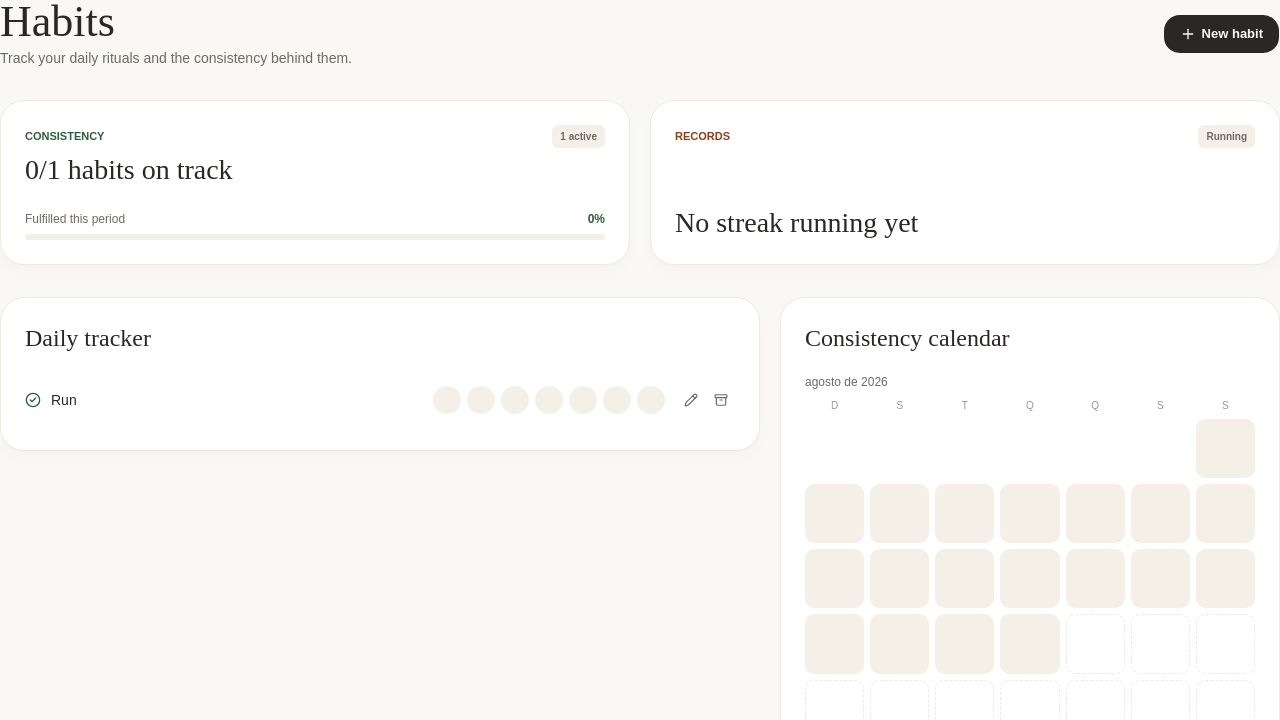
HabitsPage › opens the form on the habit whose row was clicked
Click the button named "Edit Run" at {"x": 691, "y": 400}, box [677,386,705,414]
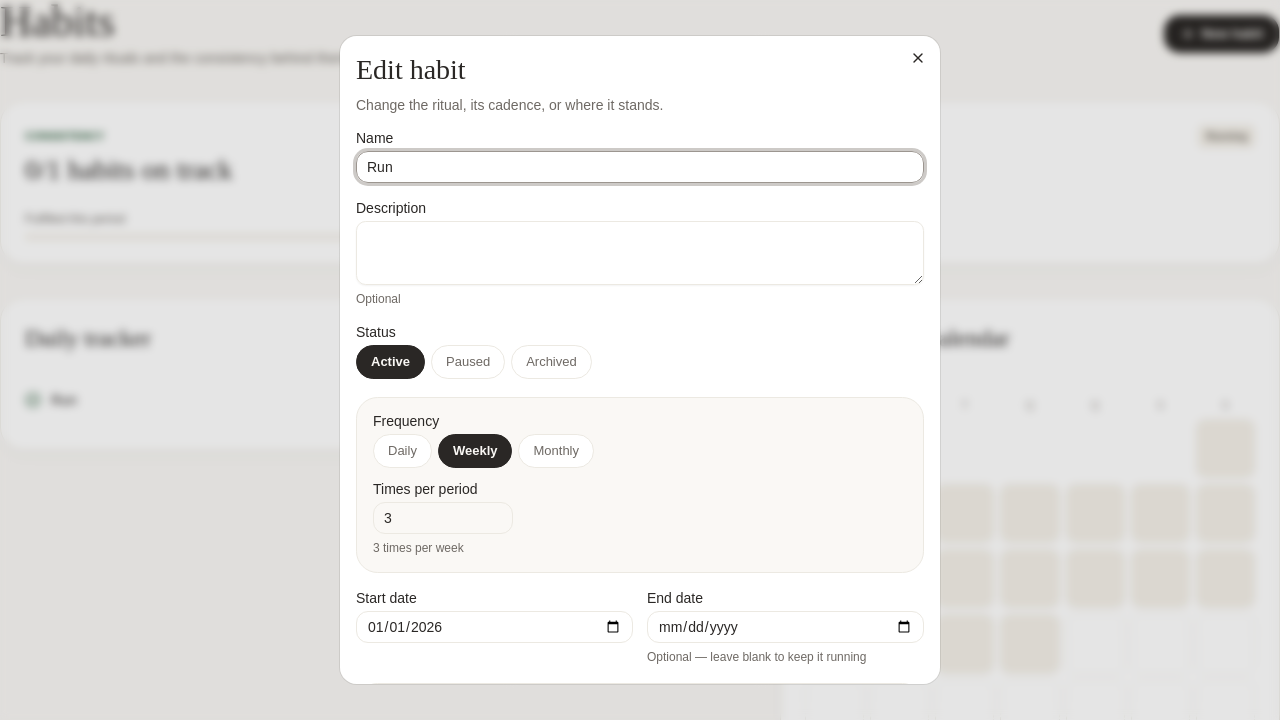
Expected: the heading "Edit habit" is shown, [356,54,466,85]
Expected: the field labelled "Name" holds "Run", [356,151,924,183]
Expected: the field labelled "Times per period" holds "3", [373,502,513,534]
